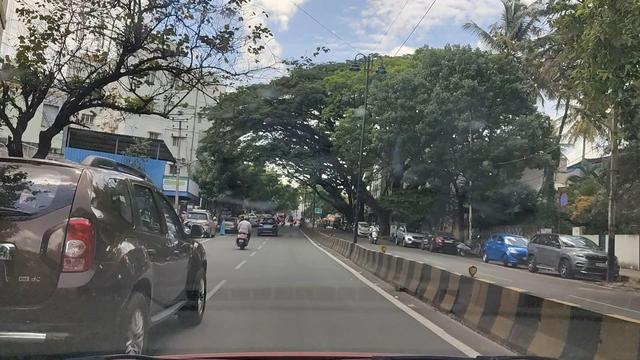LMV: (1, 156, 213, 357)
